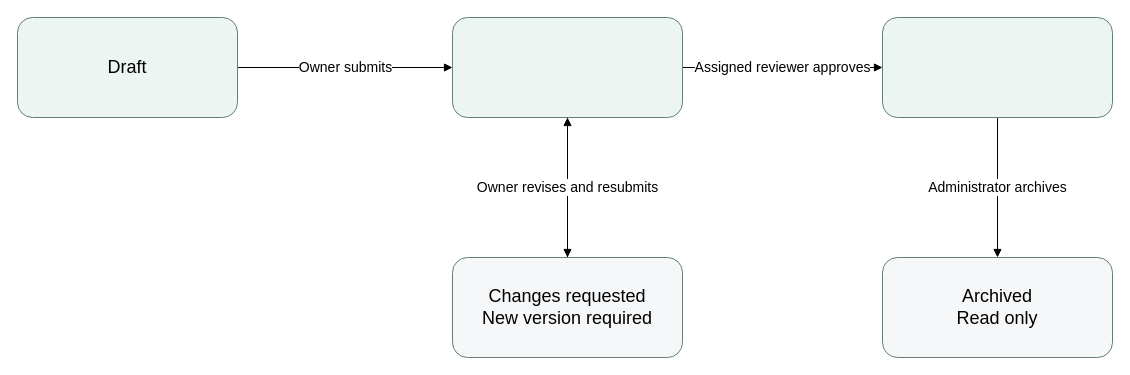
Image size: 1130x375. Some labels were removed from this diagram. The shapes that lost their labels are listed below. From the top down, each one's centre as x and y in pixels, then its label:
At (567,67): "In review Frozen version".
At (997,67): "Approved".
